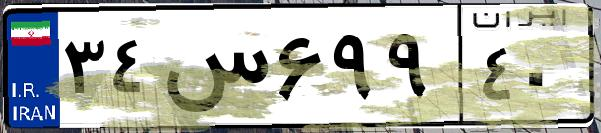0: (525, 38, 570, 115)
3: (57, 26, 110, 100)
4: (475, 38, 525, 113), (110, 28, 158, 98)
6: (270, 28, 330, 110)
9: (385, 28, 445, 110), (330, 28, 385, 110)
س: (158, 20, 270, 120)
